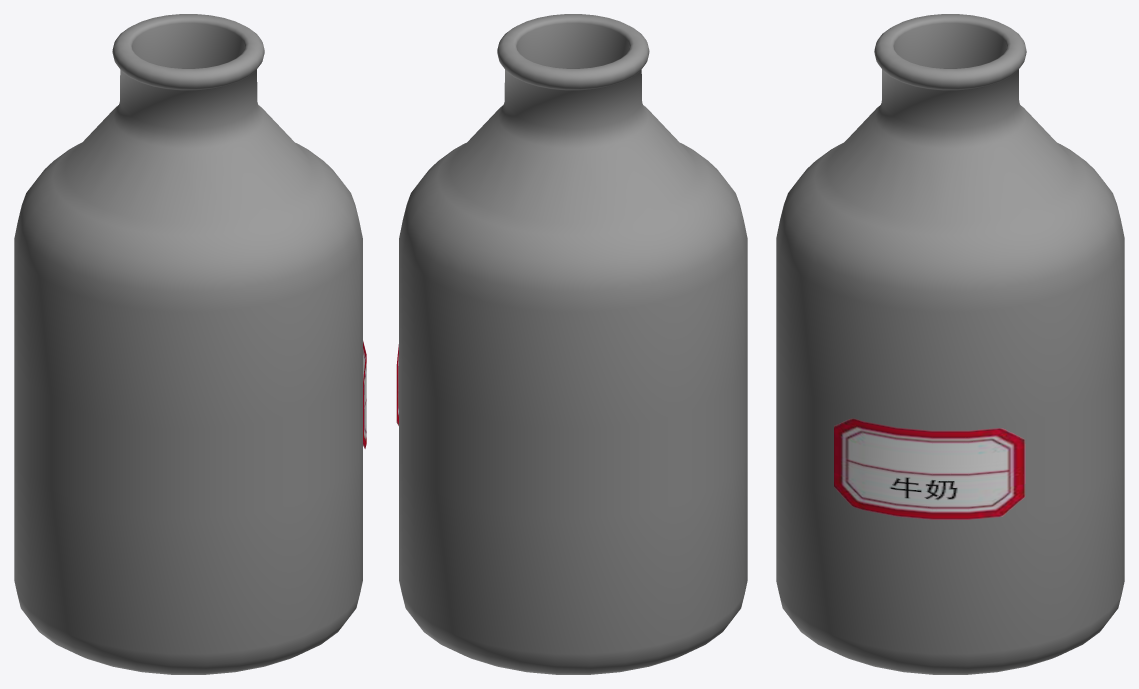
The model's file is SM_玻璃瓶.fbx.
The picture shows the model from 3 angles, left to right: view 1: azimuth 30°, elevation 25°; view 2: azimuth 150°, elevation 25°; view 3: azimuth 270°, elevation 25°; orthographic projection.
Parts seen in each view (by area): view 1: SM_玻璃瓶; view 2: SM_玻璃瓶; view 3: SM_玻璃瓶.
Part boxes in pixels (x1=…): SM_玻璃瓶: x1=14, y1=14, x2=366, y2=674; SM_玻璃瓶: x1=396, y1=14, x2=747, y2=674; SM_玻璃瓶: x1=776, y1=14, x2=1124, y2=674.
Size of the model in its own units: 0.0599 by 0.1073 by 0.0595.
2 materials, 1 textured.
